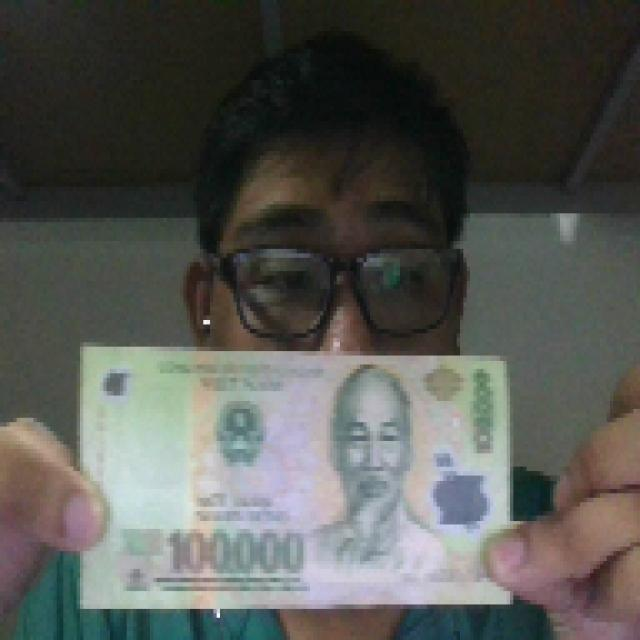100 000 VND: (73, 338, 520, 613)
